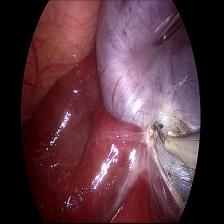Grasper: (152, 10, 186, 48)
Hook: (149, 118, 202, 177)
